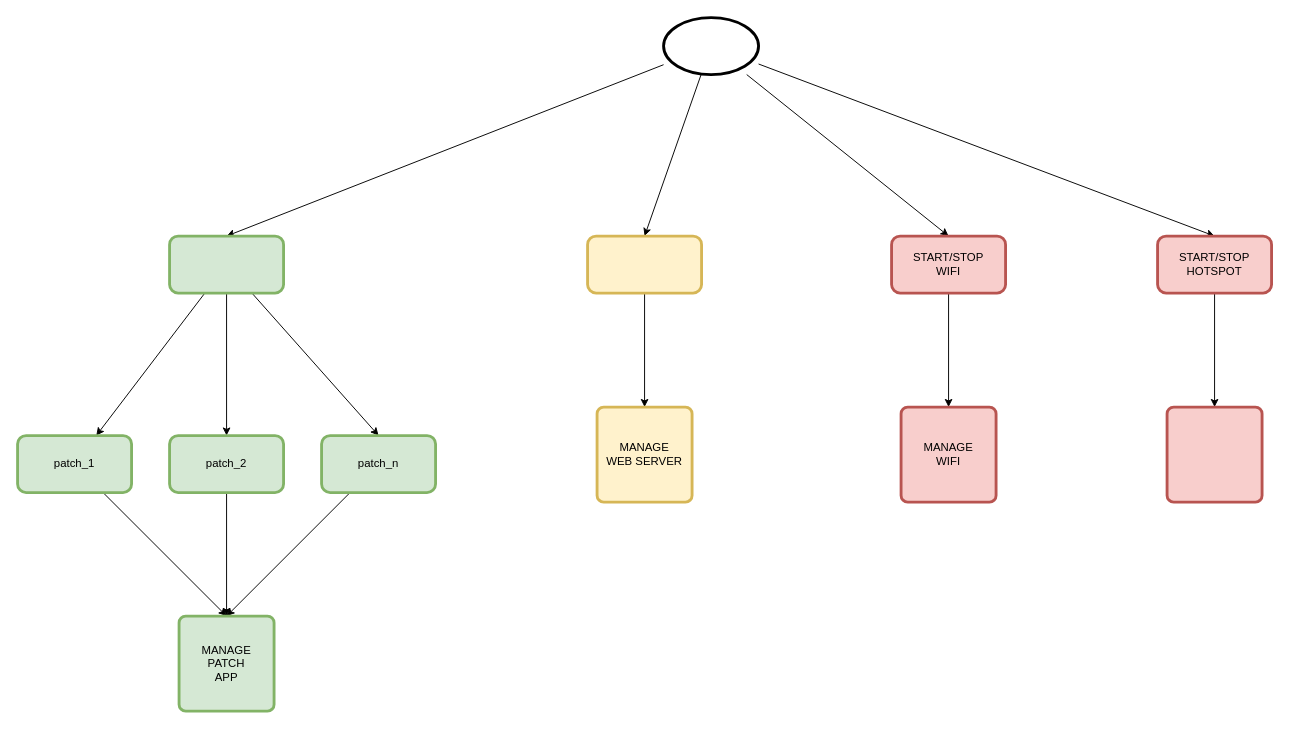
The diagram is 1289 pixels wide and 729 high, and some of its shapes have lost their labels. Each missing label, with the centre of its shape:
MAIN MENU: (711,46)
MANAGE HOTSPOT: (1214,454)
PATCHES: (226,264)
START/STOP WEB: (644,264)
